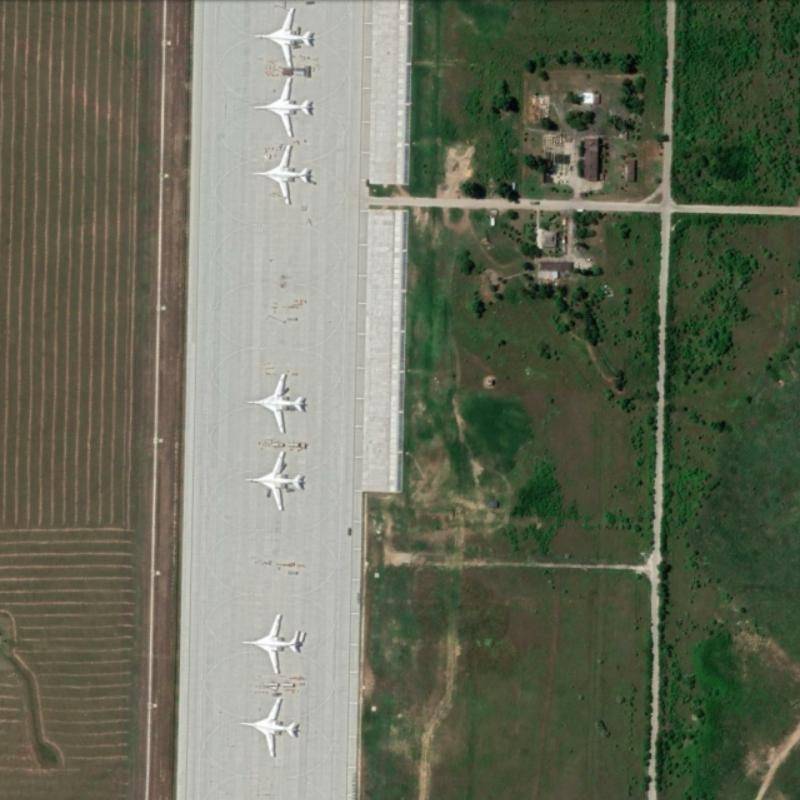A6: (241, 446, 304, 513), (237, 611, 301, 676), (250, 5, 314, 68), (248, 142, 311, 206), (236, 695, 299, 759), (249, 75, 312, 138), (243, 371, 305, 433)
